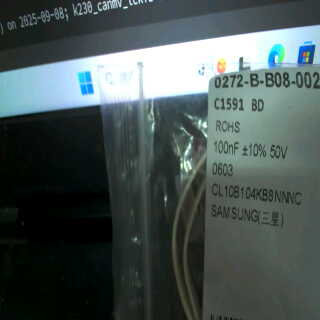100nF: (213, 138, 244, 157)
